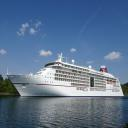cruises: (7, 52, 128, 101)
